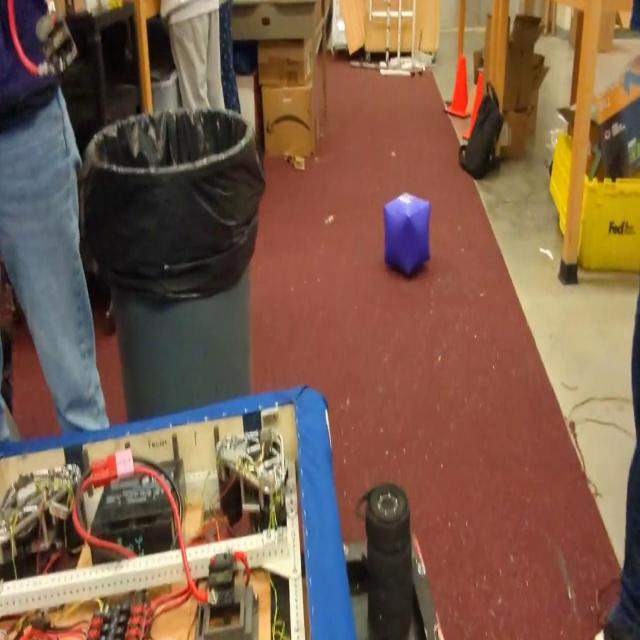frc_cube: (381, 191, 431, 277)
